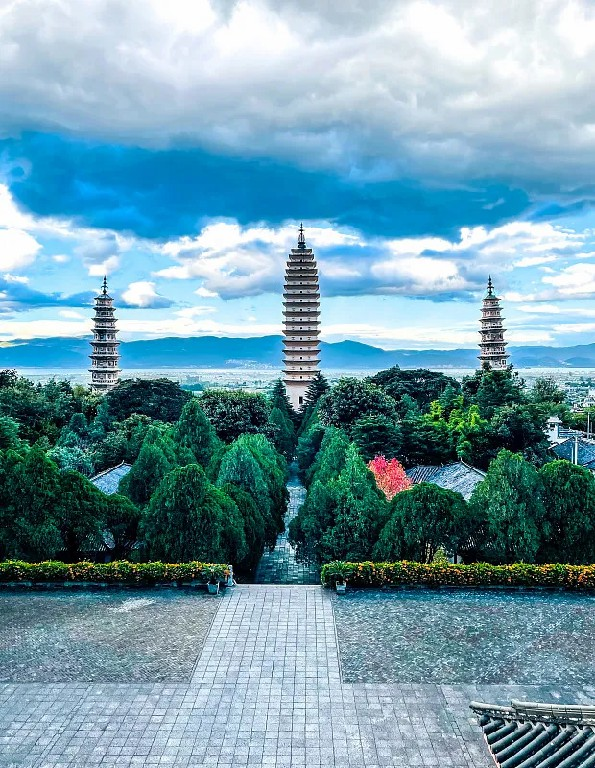ThreePagoda: (283, 223, 321, 411)
